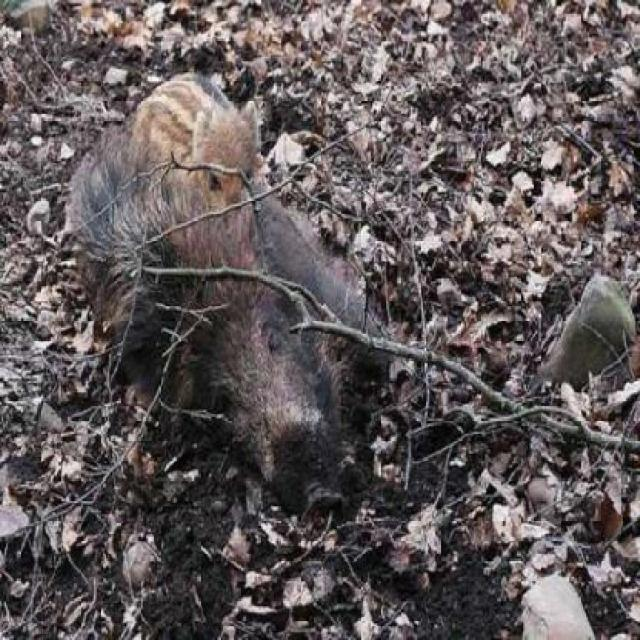Boar: (80, 33, 458, 504)
